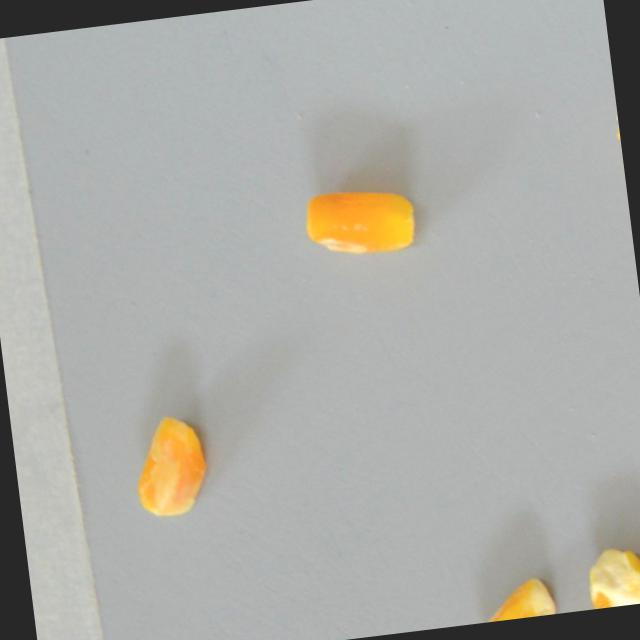pelicula: (300, 177, 419, 264), (124, 408, 214, 523), (464, 572, 559, 624), (575, 541, 640, 610)
